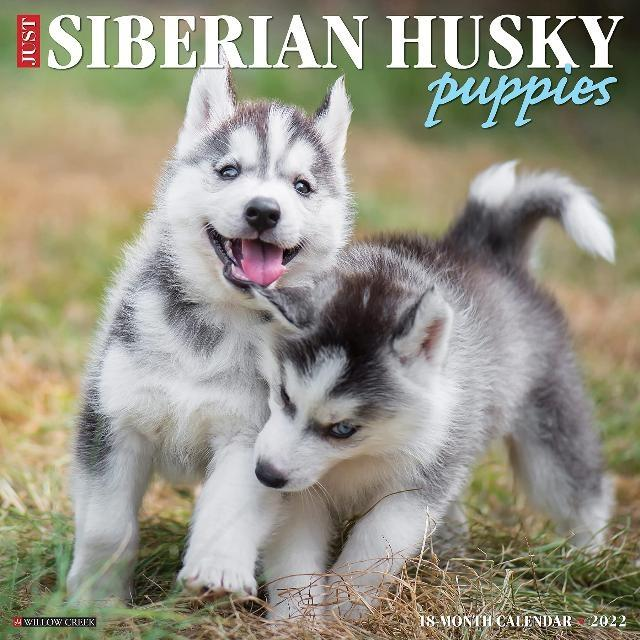dog: (192, 286, 486, 582), (106, 74, 386, 288)
